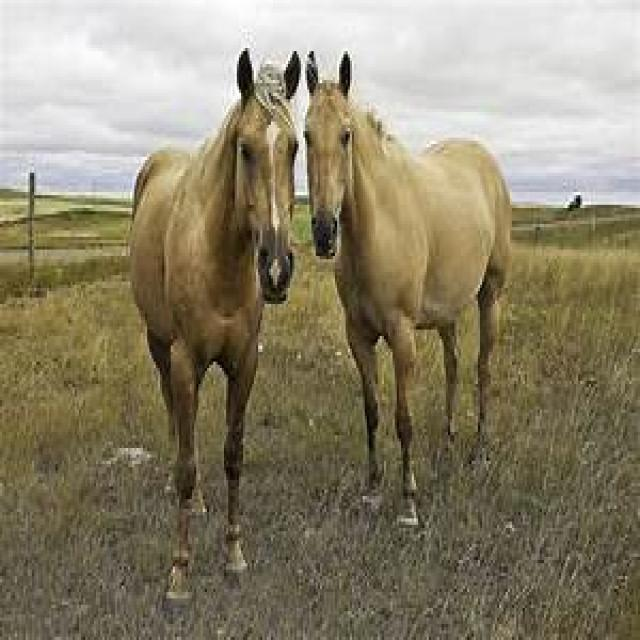horse: (128, 51, 303, 602), (307, 58, 514, 496)
